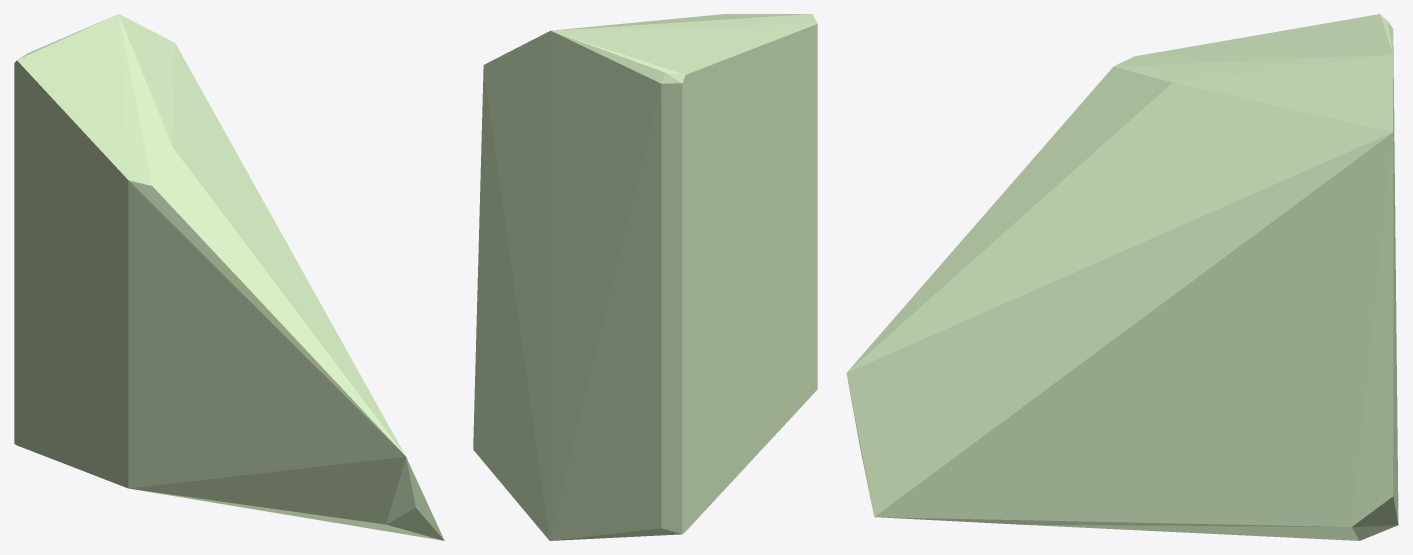
Rendered from iiwa_robot_base_coll_17.obj.
3 views of the same model, side by side, from view 1: azimuth 30°, elevation 25°; view 2: azimuth 150°, elevation 25°; view 3: azimuth 270°, elevation 25° (orthographic). The views are drawn at different scales.
Parts seen in each view (by area): view 1: node; view 2: node; view 3: node.
Part boxes in pixels (<box>): node: <box>14,14,444,540</box>; node: <box>473,14,817,540</box>; node: <box>846,14,1398,540</box>.
Bounding box in the file's own units: 0.0686 × 0.144 × 0.1506.
